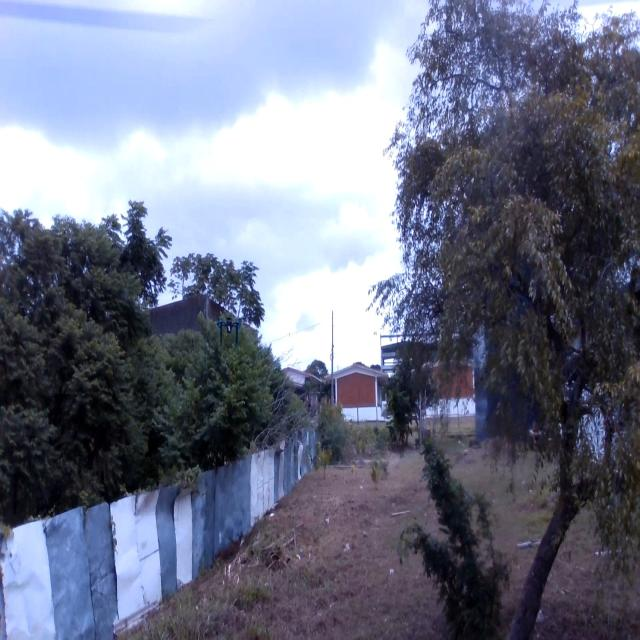-uav-: (212, 306, 250, 352)
